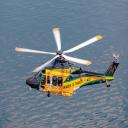helicopter: (15, 21, 126, 101)
